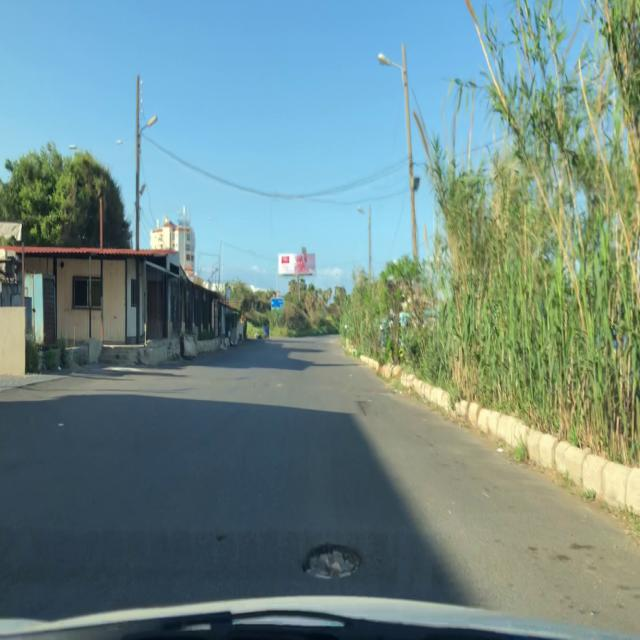Pothole: (301, 537, 365, 583)
